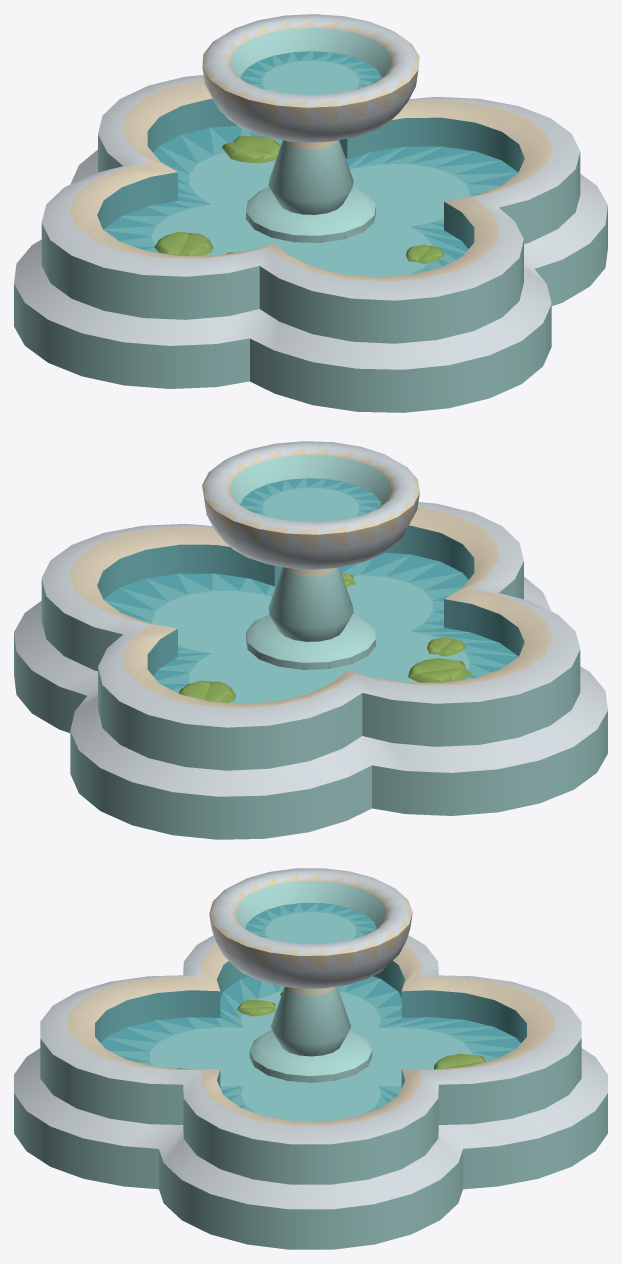
File: itch_tiny_pretty_park_fountain.glb
3 views of the same model, one above another, from view 1: azimuth 30°, elevation 25°; view 2: azimuth 150°, elevation 25°; view 3: azimuth 270°, elevation 25° (orthographic). The views are drawn at different scales.
Visible parts, largest first — view 1: fountain, fountain_water, fountain_leaves; view 2: fountain, fountain_water, fountain_leaves; view 3: fountain, fountain_water, fountain_leaves.
Part boxes in pixels (x1,y1,x2,y2): fountain: (14, 14, 607, 412); fountain_water: (103, 51, 518, 276); fountain_leaves: (154, 135, 444, 263); fountain: (14, 441, 607, 839); fountain_water: (103, 478, 518, 703); fountain_leaves: (179, 573, 472, 702); fountain: (14, 868, 607, 1249); fountain_water: (101, 903, 520, 1121); fountain_leaves: (177, 992, 485, 1069).
Bounding box in the file's own units: 0.96 × 0.384 × 0.96.
